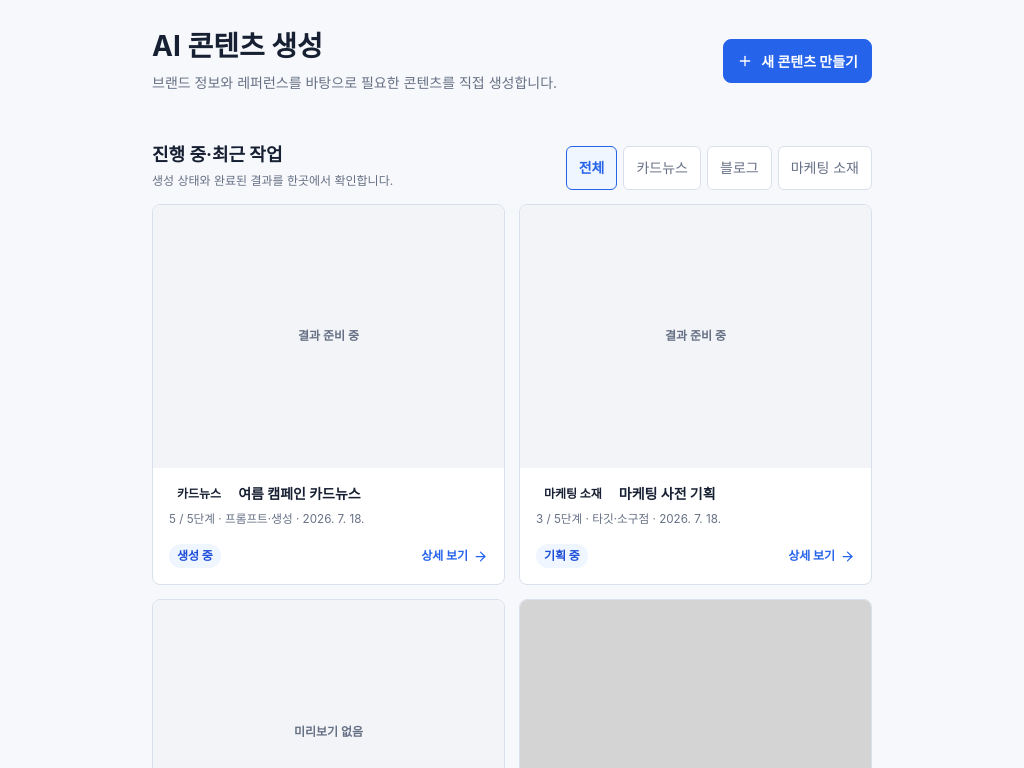
Test: AiContentHomePage › filters jobs by content type
Check: the heading "AI 콘텐츠 생성" is shown, box top-left (152, 29), bottom-right (323, 63)
Click the button "블로그". click: (739, 168)
box: top-left (707, 146), bottom-right (772, 190)
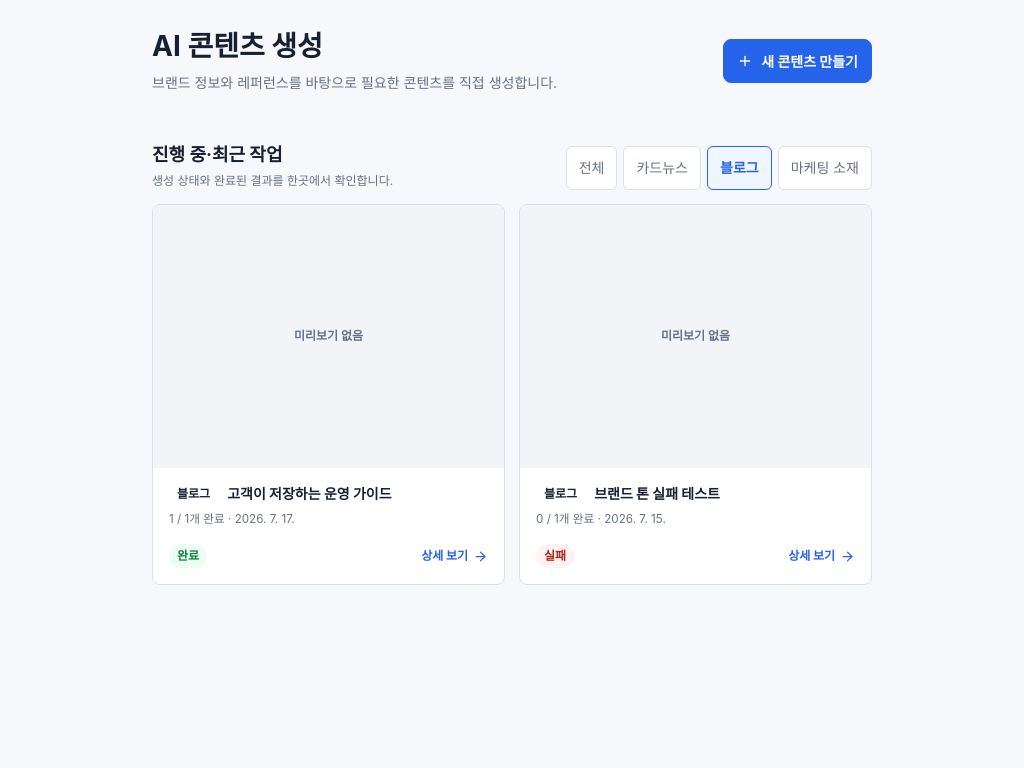
Check: the text "고객이 저장하는 운영 가이드" is shown, box top-left (227, 483), bottom-right (392, 504)
Check: the link "여름 캠페인 카드뉴스" is gone
